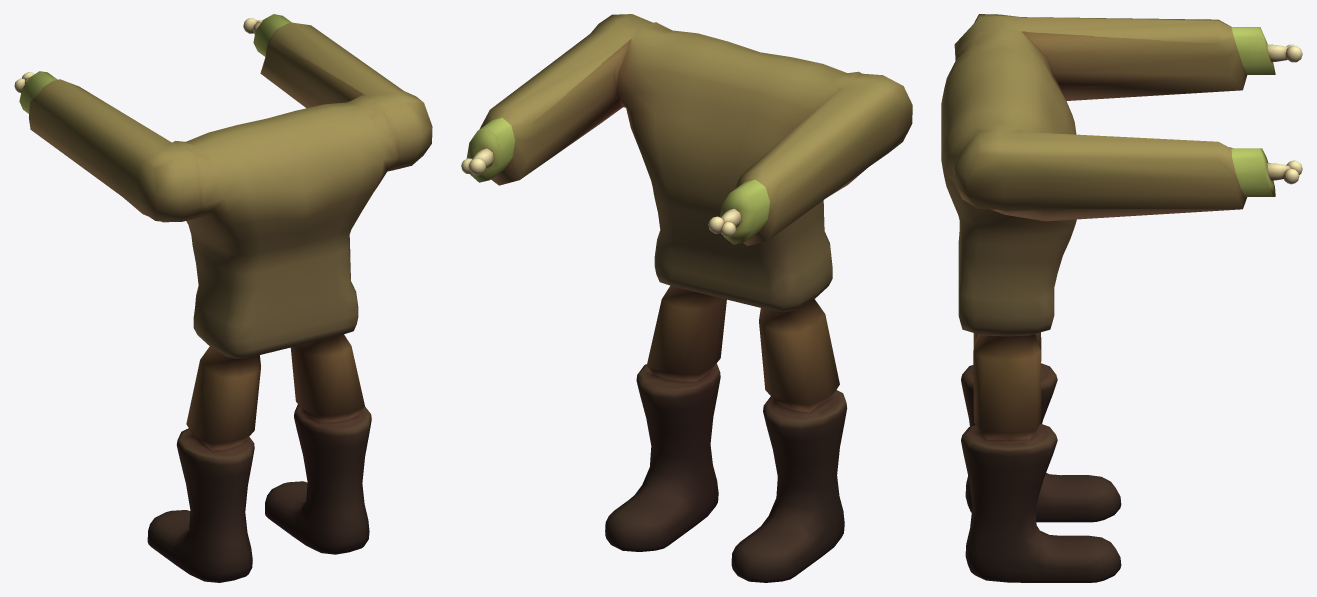
The model's file is ASM - PBR Metallic Roughness.glb.
3 renders of one model, left to right at view 1: azimuth 30°, elevation 25°; view 2: azimuth 150°, elevation 25°; view 3: azimuth 270°, elevation 25°, orthographic. The views are drawn at different scales.
Parts seen in each view (by area): view 1: Cube.005; view 2: Cube.005, Bone; view 3: Cube.005, Bone.
Boxes of the visible parts, box(x1,y1,x2,y2) form: Cube.005: box(19, 14, 432, 582); Cube.005: box(466, 14, 912, 582); Bone: box(461, 148, 741, 237); Cube.005: box(941, 14, 1275, 582); Bone: box(1267, 44, 1302, 184).
Size of the model in its own units: 1.13 by 1.68 by 1.19.
Materials: 1 (1 with a texture image).
